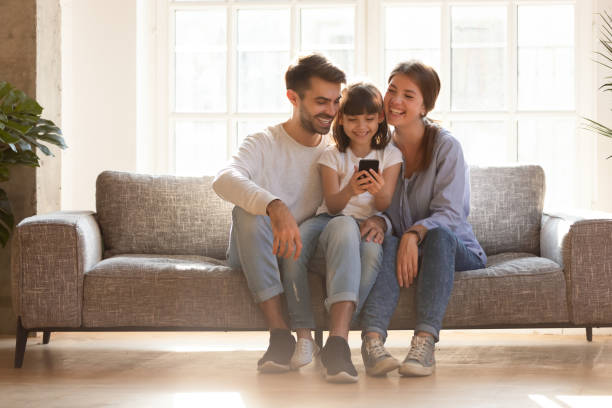without mask: (285, 63, 340, 135), (333, 86, 384, 151), (384, 61, 435, 126)
